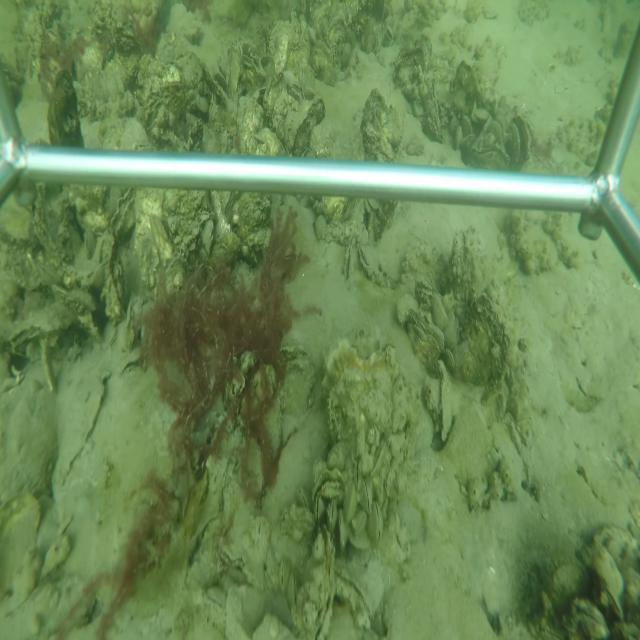Oyster-Closed: (53, 363, 112, 490), (309, 522, 340, 637), (8, 301, 82, 348), (284, 96, 326, 156), (218, 542, 267, 593), (336, 566, 374, 625), (434, 358, 458, 448), (200, 61, 233, 109), (468, 144, 511, 169), (367, 501, 386, 553), (431, 83, 444, 141), (357, 479, 375, 515), (230, 48, 242, 99), (286, 568, 299, 610), (318, 482, 345, 501), (278, 554, 290, 595), (328, 496, 339, 529), (313, 497, 325, 525)
Oyster-Open: (107, 189, 137, 245), (509, 111, 535, 169), (341, 243, 358, 283)
